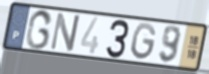3: (104, 18, 131, 60)
4: (78, 16, 101, 56)
9: (157, 24, 181, 66)
G: (24, 8, 55, 51), (130, 22, 158, 62)
N: (48, 11, 82, 53)
